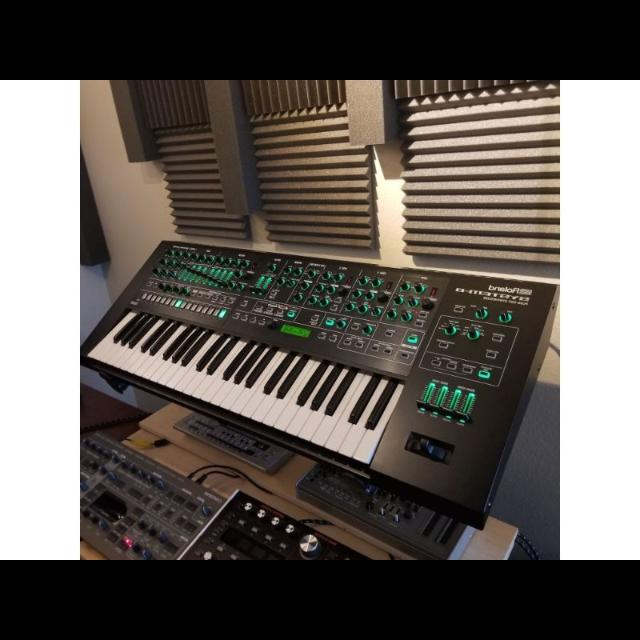Electronic-Keyboard: (92, 226, 552, 534)
